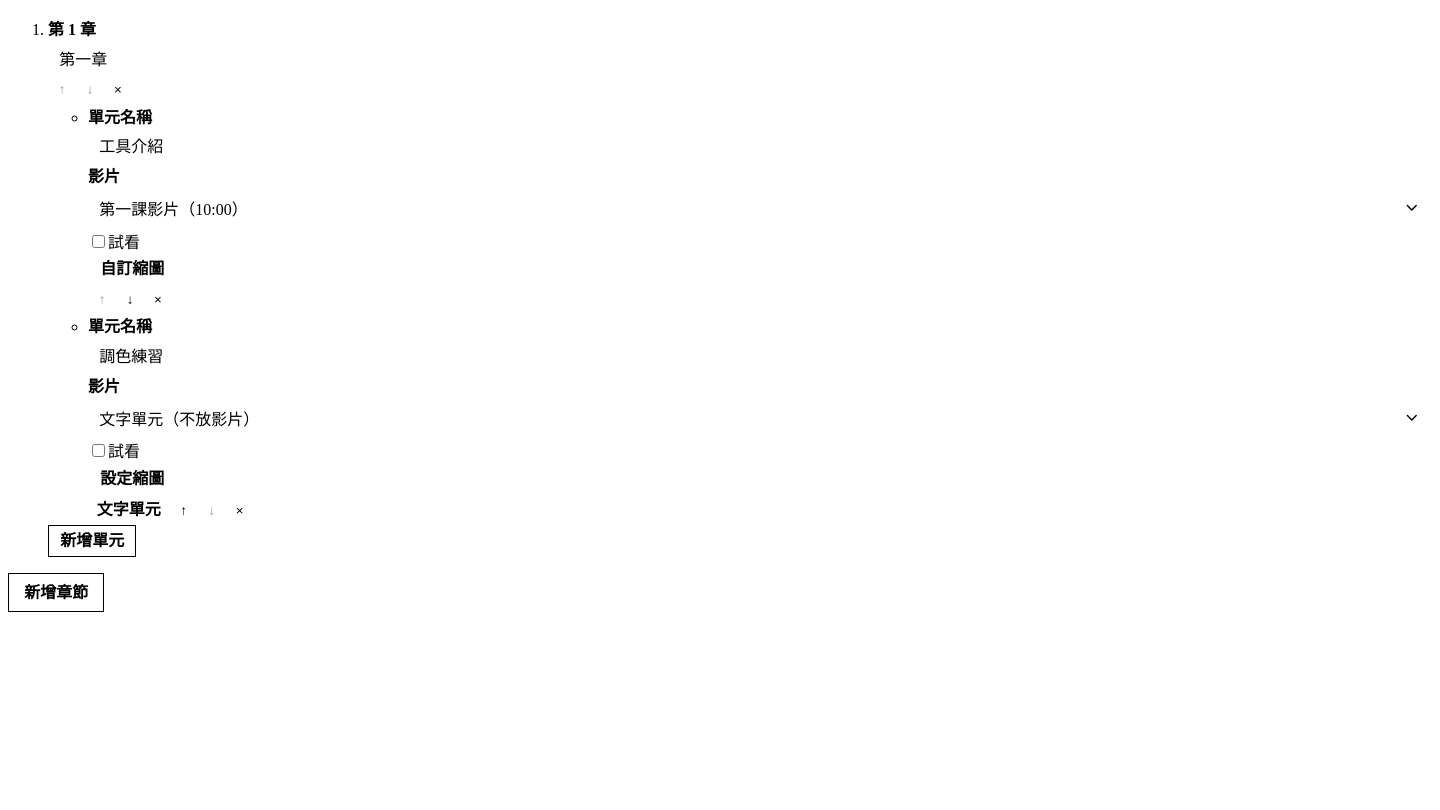
Scenario: removing a chapter says how many lessons go with it
The width and height of the screenshot is (1440, 810).
Click the button "×" below "第 1 章".
click(118, 90)  # box [104,76,132,104]
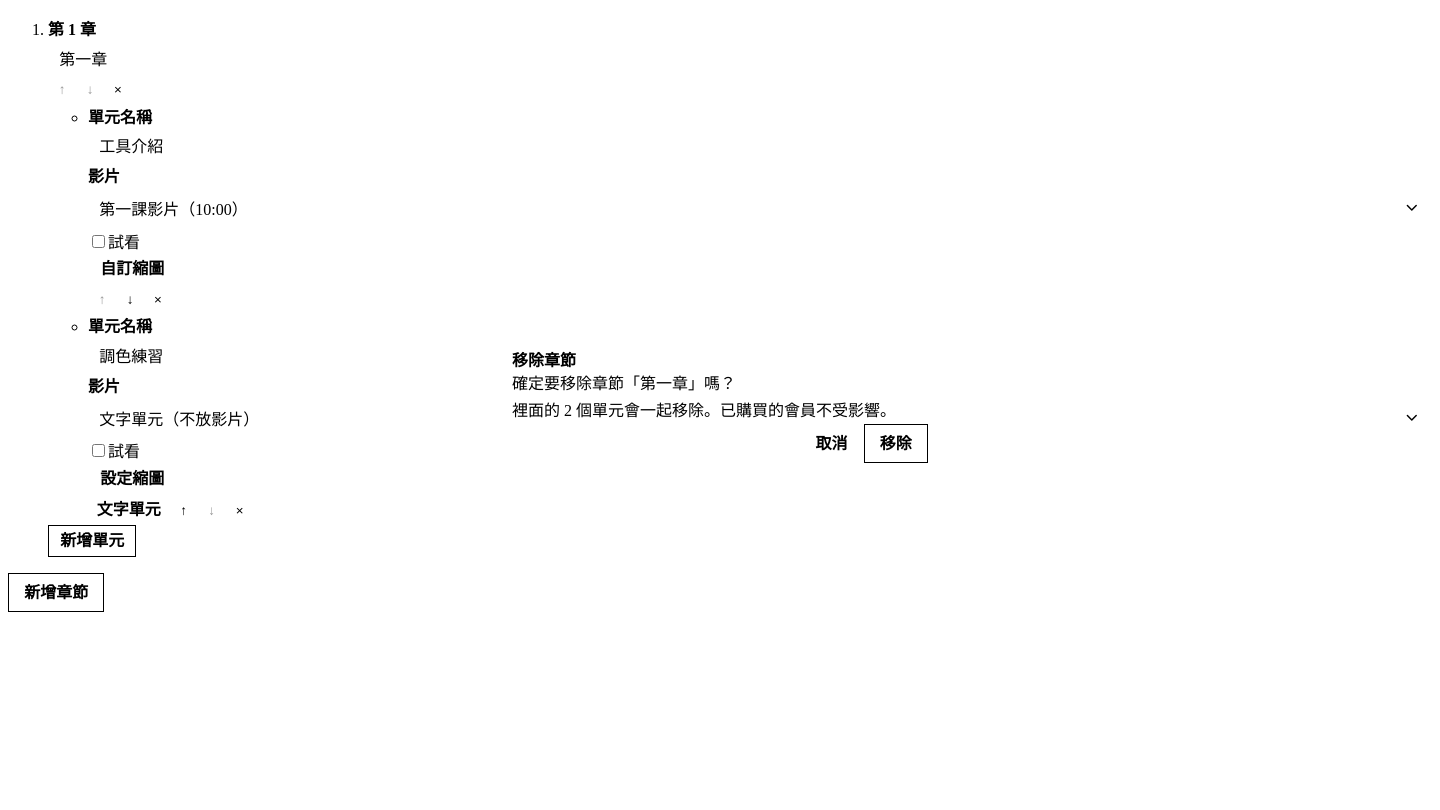
Expected: the text "2 個單元會一起移除" is shown, [512,398,928,424]
